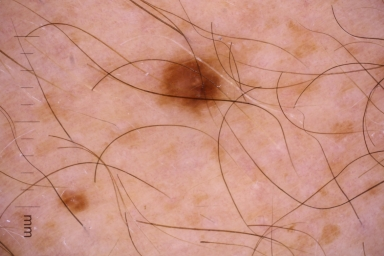nevus: (163, 58, 222, 107), (58, 194, 88, 214)
